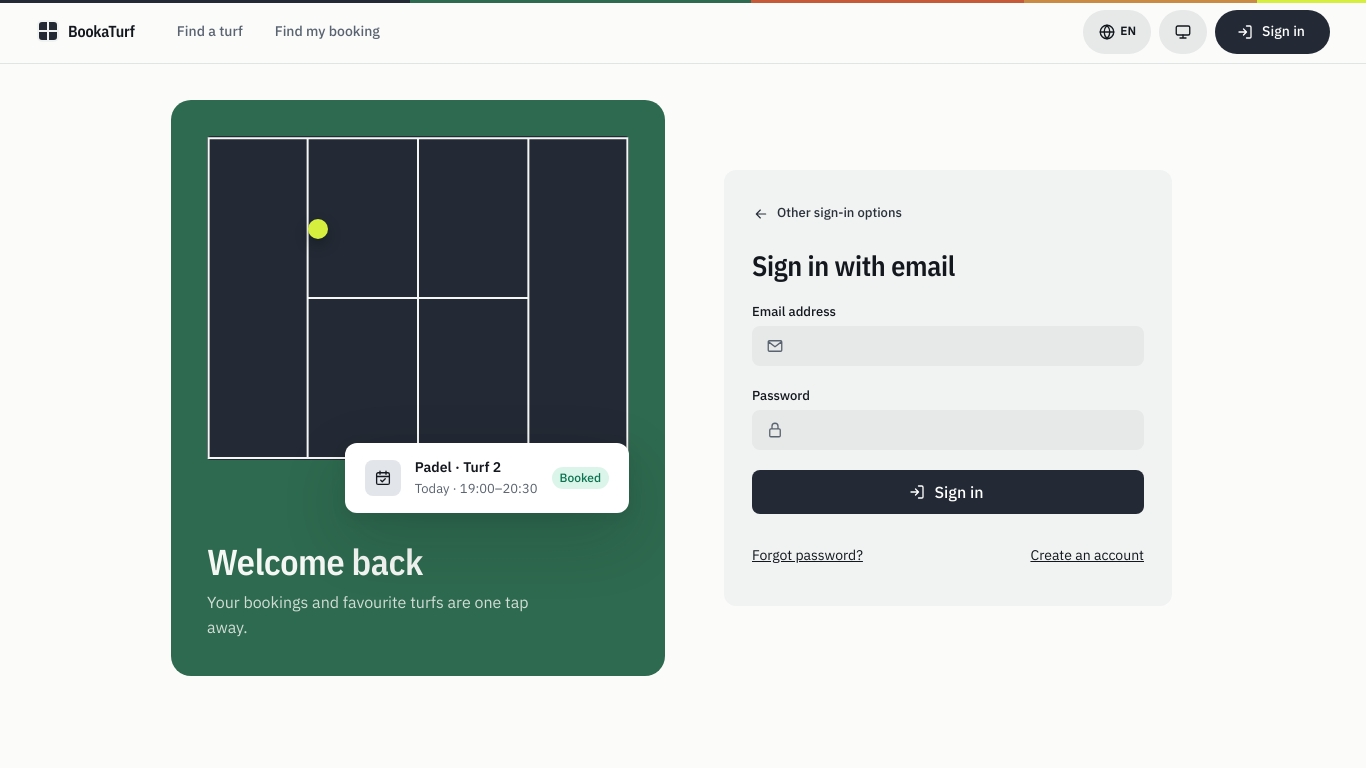
Test: LoginPage › invalid credentials message
Step 1. Type "ada@example.com" into the field labelled "Email address" → (948, 346), box [752,326,1144,366]
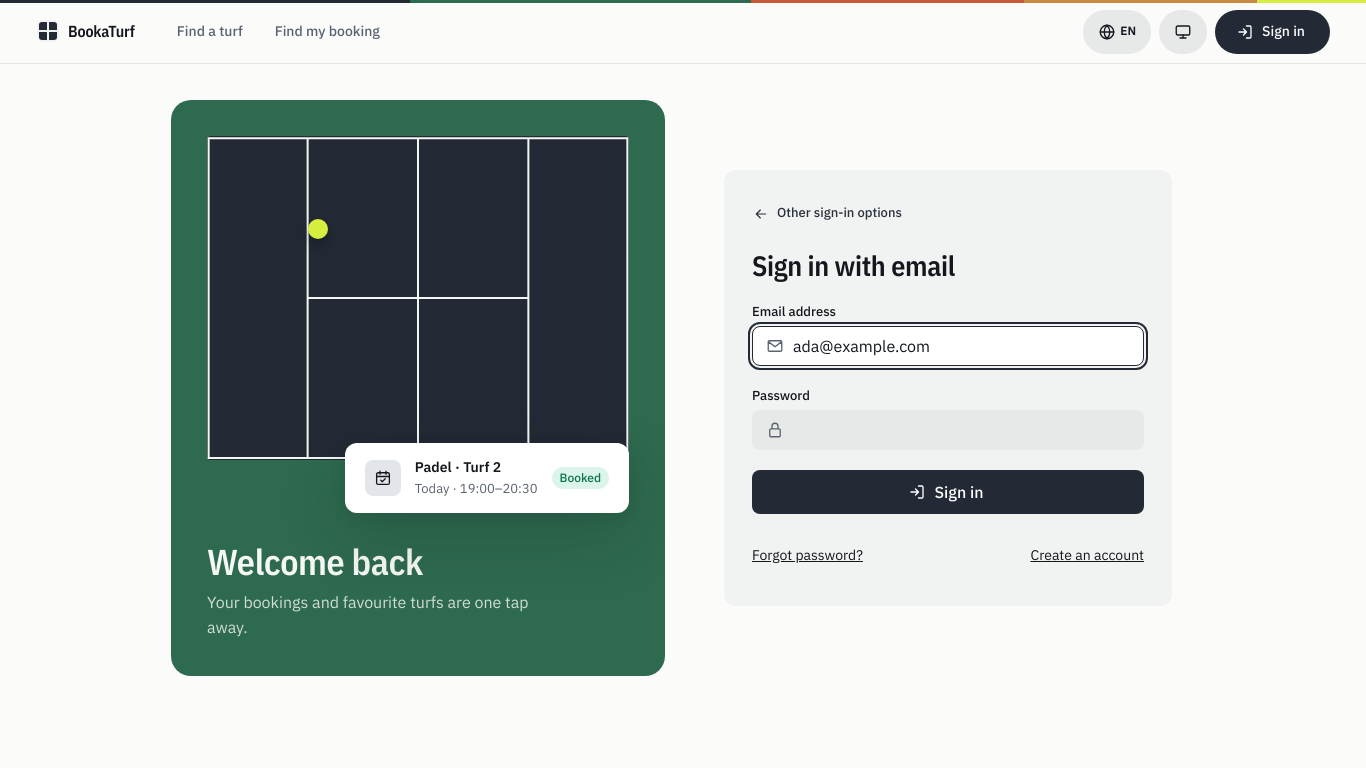
Step 2. Type "bad" into the password field labelled "Password" → (948, 430), box [752,410,1144,450]
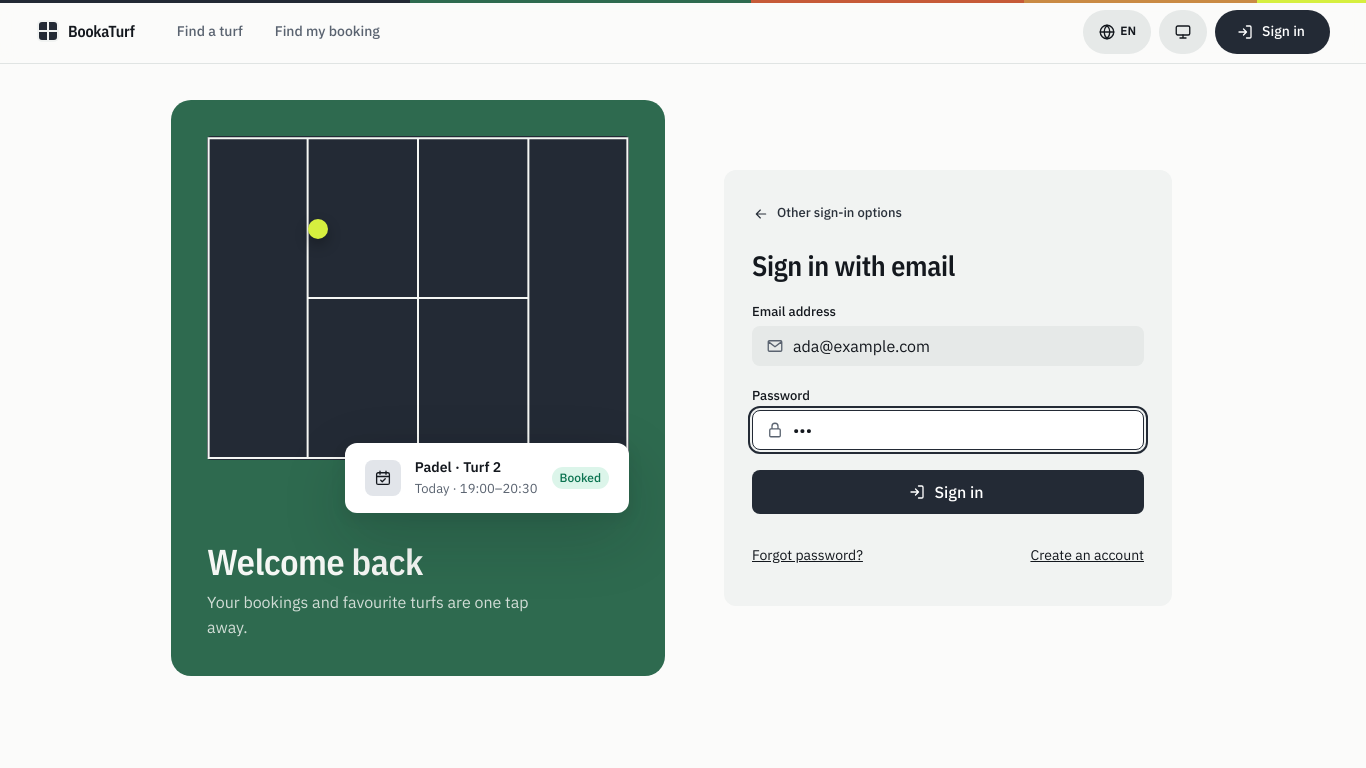
Step 3. Click the button "Sign in" → (948, 492), box [752,470,1144,514]
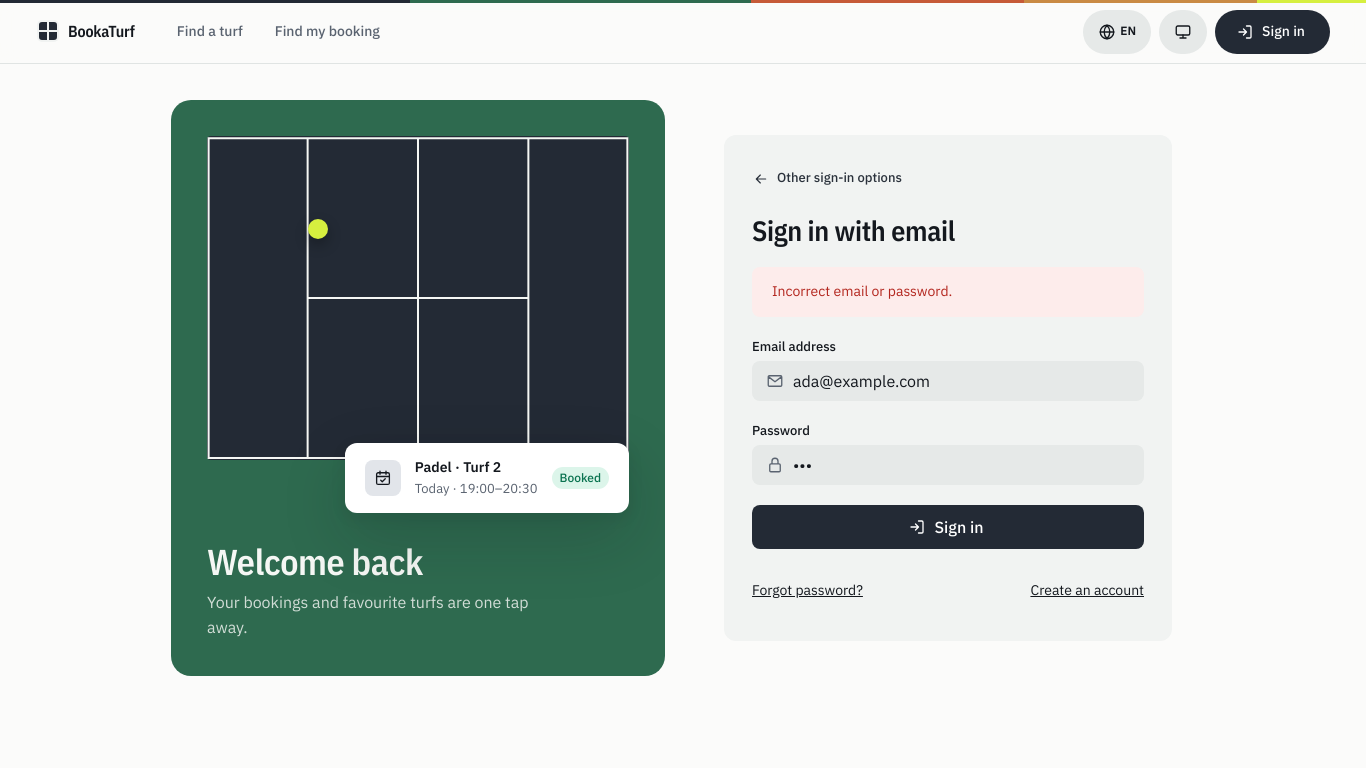
Result: the text "Incorrect email or password." is shown at [752,267,1144,317]
